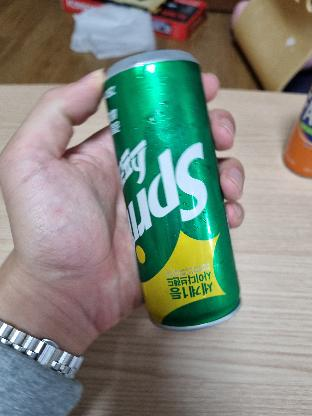Can: (107, 56, 243, 338)
